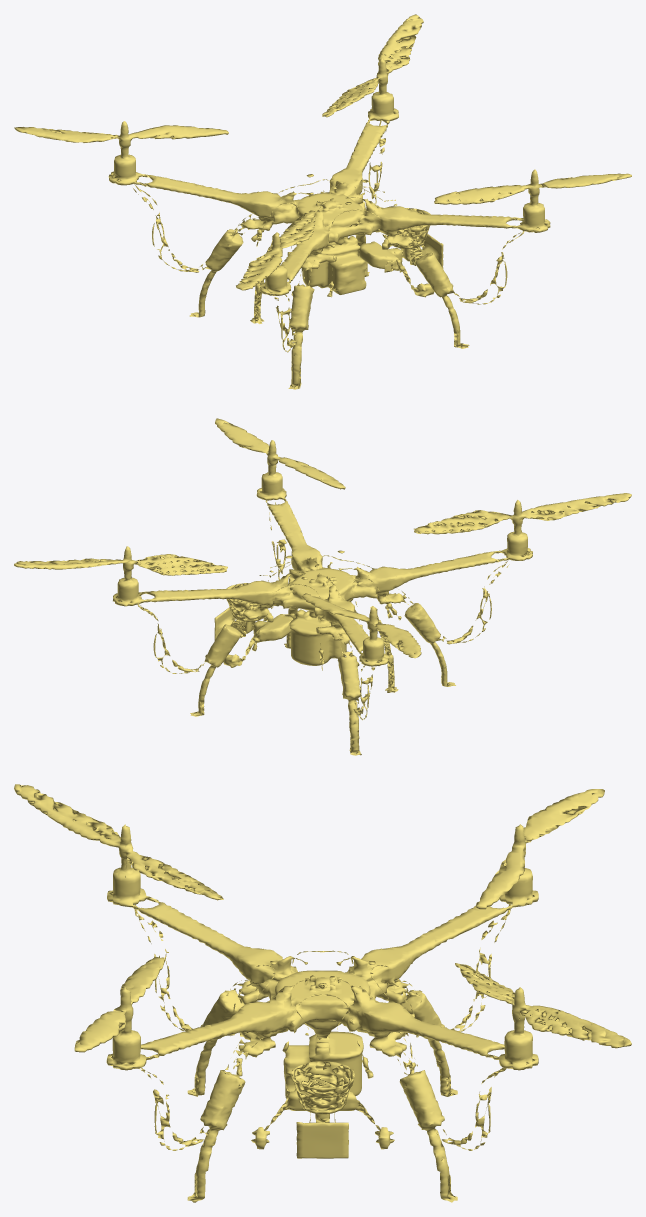
The model's file is drone_optimized_v3.glb.
The picture shows the model from 3 angles, top to bottom: view 1: azimuth 30°, elevation 25°; view 2: azimuth 150°, elevation 25°; view 3: azimuth 270°, elevation 25°; orthographic projection. The views are drawn at different scales.
Parts seen in each view (by area): view 1: drone; view 2: drone; view 3: drone.
Part boxes in pixels (box(x1,y1,x2,y2)): drone: box(14, 14, 631, 389); drone: box(14, 418, 631, 755); drone: box(14, 784, 631, 1202).
Bounding box in the file's own units: 0.9926 × 0.4248 × 0.9908.
